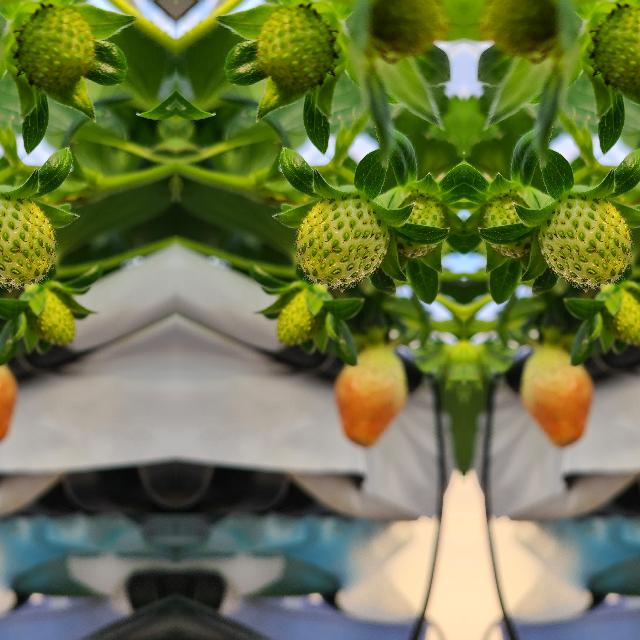Health_25: (293, 191, 387, 289), (539, 191, 633, 289), (245, 0, 338, 88), (11, 0, 104, 88), (0, 191, 57, 289), (587, 0, 640, 88)
